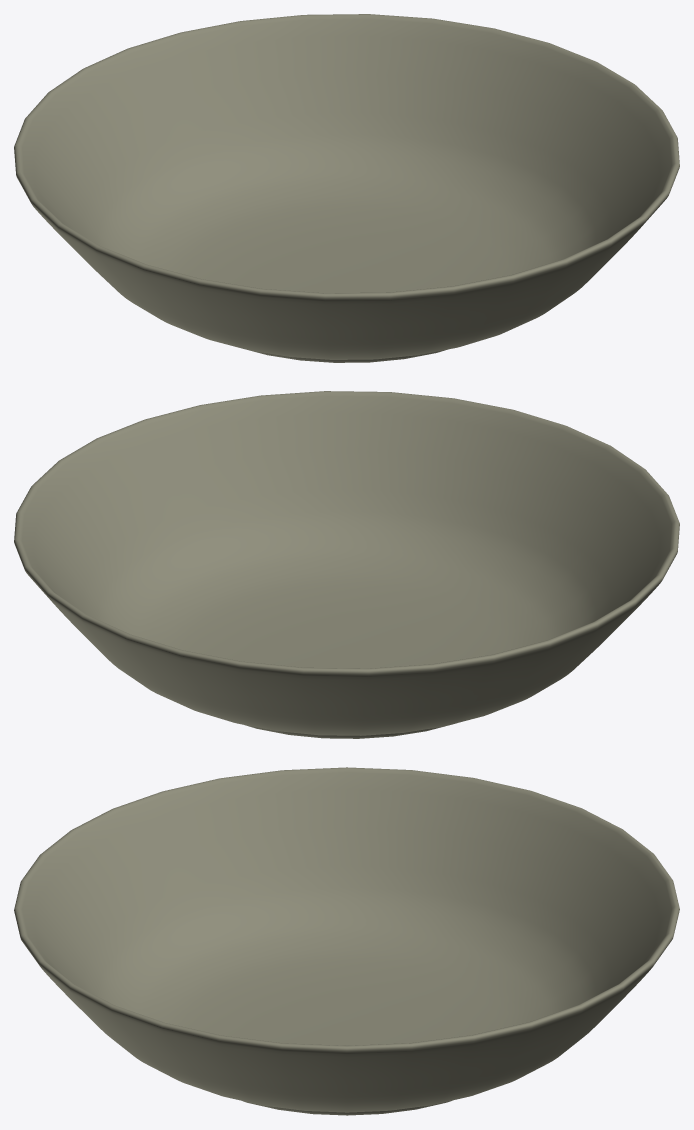
Rendered from platemedium.obj.
3 renders of one model, top to bottom at view 1: azimuth 30°, elevation 25°; view 2: azimuth 150°, elevation 25°; view 3: azimuth 270°, elevation 25°, orthographic.
Visible parts, largest first — view 1: Vert.004_Vert.002; view 2: Vert.004_Vert.002; view 3: Vert.004_Vert.002.
Part boxes in pixels (x1,y1,x2,y2): Vert.004_Vert.002: (14, 14, 679, 362); Vert.004_Vert.002: (14, 391, 679, 738); Vert.004_Vert.002: (14, 767, 679, 1115).
Size of the model in its own units: 0.22 by 0.05 by 0.22.
